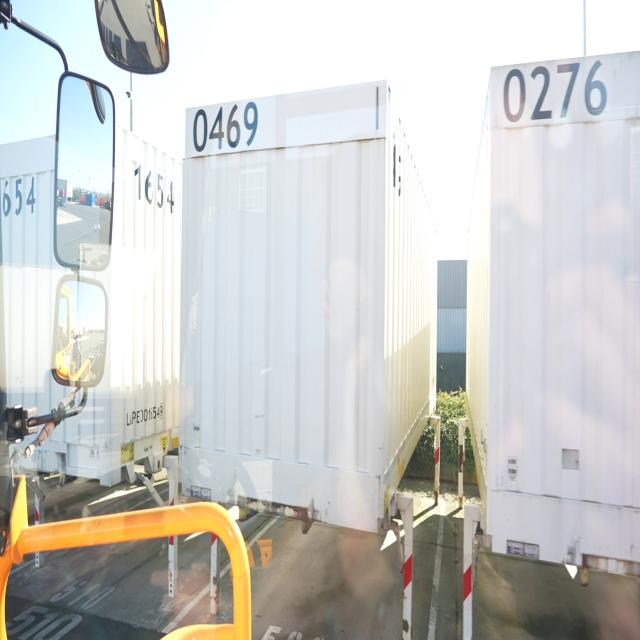Code: (501, 58, 607, 122), (191, 95, 259, 155), (133, 157, 178, 221)
